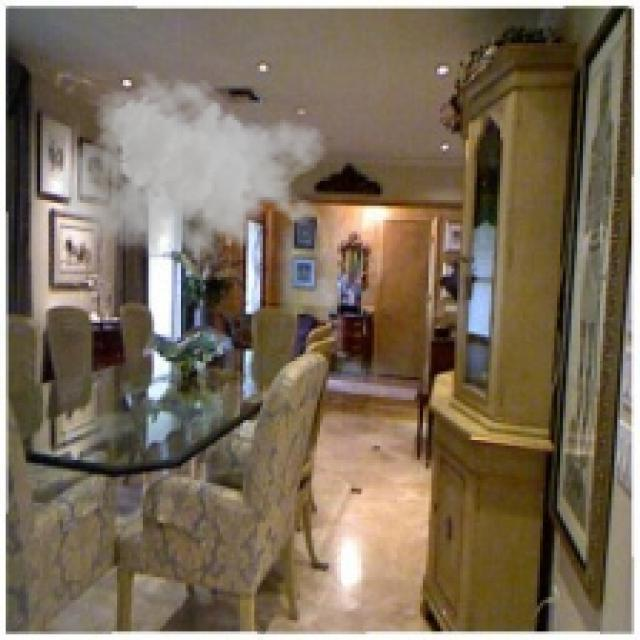Smoke: (57, 71, 329, 283)
